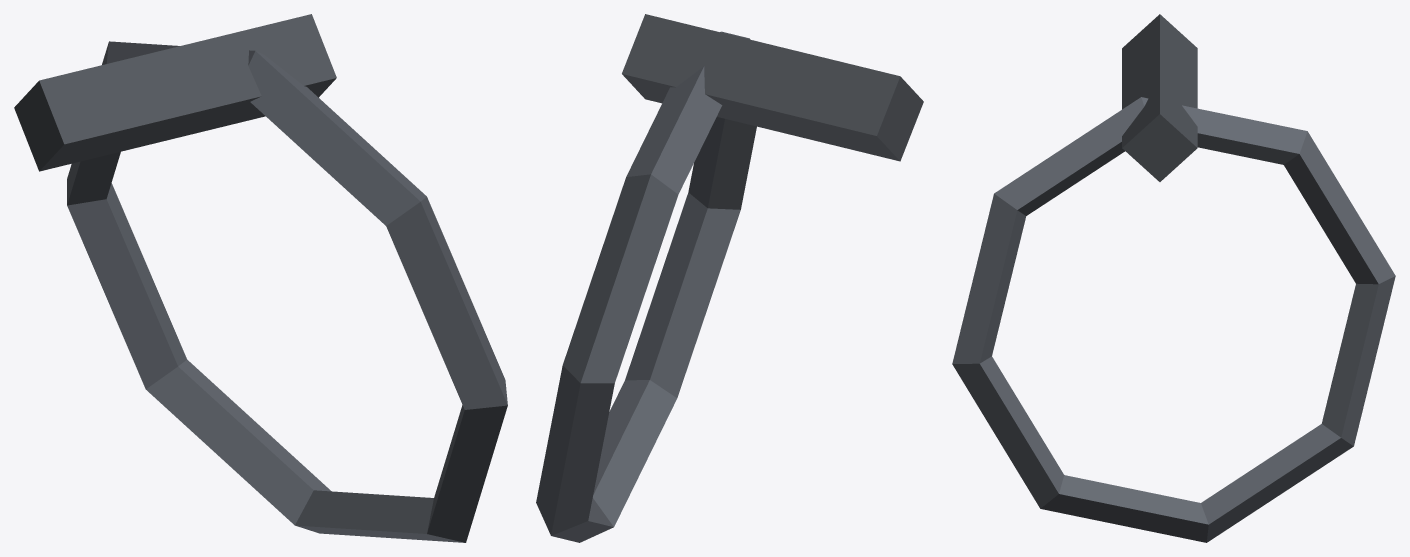
The model's file is SM_Wep_Flashbang_Pin_01.fbx.
The picture shows the model from 3 angles, left to right: view 1: azimuth 30°, elevation 25°; view 2: azimuth 150°, elevation 25°; view 3: azimuth 270°, elevation 25°; orthographic projection. The views are drawn at different scales.
Parts seen in each view (by area): view 1: SM_Wep_Flashbang_Pin_01; view 2: SM_Wep_Flashbang_Pin_01; view 3: SM_Wep_Flashbang_Pin_01.
Part boxes in pixels (x1,y1,x2,y2): SM_Wep_Flashbang_Pin_01: (14,14,507,542); SM_Wep_Flashbang_Pin_01: (536,14,923,542); SM_Wep_Flashbang_Pin_01: (952,14,1395,542).
Size of the model in its own units: 3.11 by 4.54 by 4.4.
